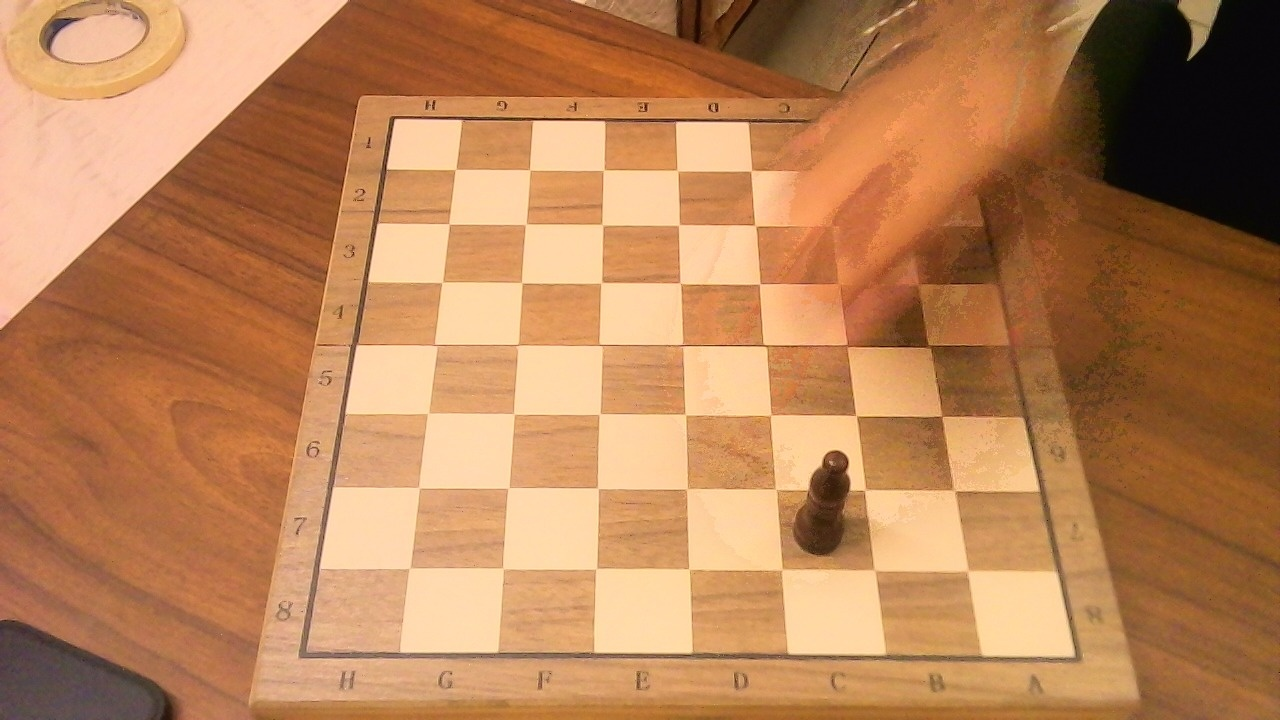b: (786, 435, 865, 557)
